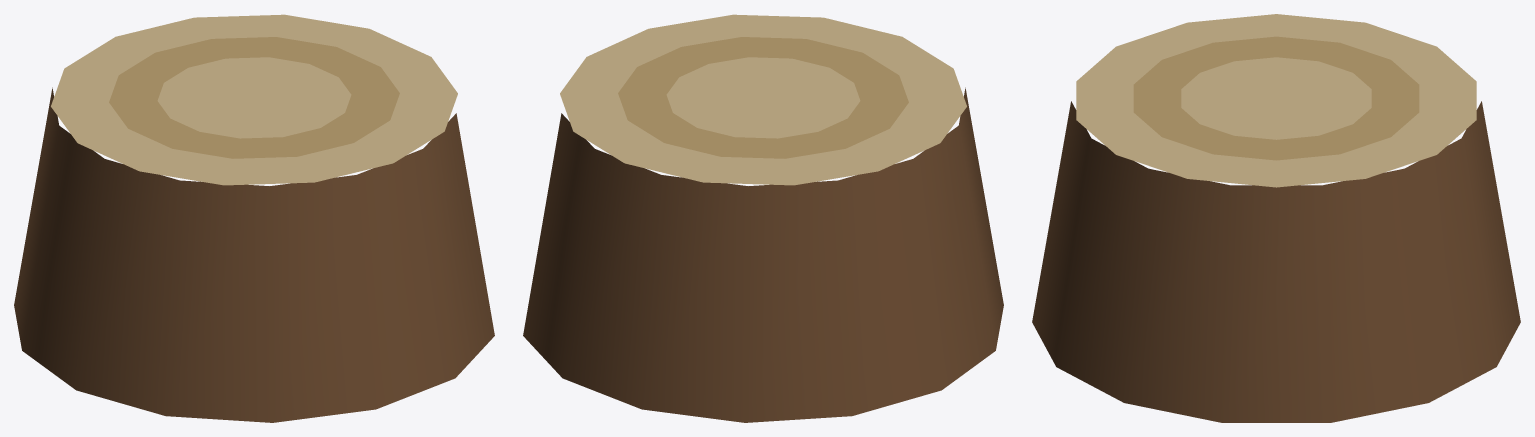
Rendered from stump-cut.glb.
3 renders of one model, left to right at view 1: azimuth 30°, elevation 25°; view 2: azimuth 150°, elevation 25°; view 3: azimuth 270°, elevation 25°, orthographic.
Parts seen in each view (by area): view 1: stump; view 2: stump; view 3: stump.
Part boxes in pixels (left/top/right/bottom): stump: left=14, top=14, right=494, bottom=422; stump: left=523, top=14, right=1003, bottom=422; stump: left=1032, top=14, right=1520, bottom=422.
Bounding box in the file's own units: 0.975 × 0.505 × 1.
